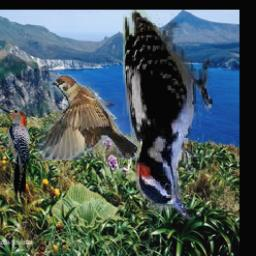Sparrow: (36, 75, 138, 161)
Woodpecker: (124, 11, 214, 220), (0, 108, 30, 198)
